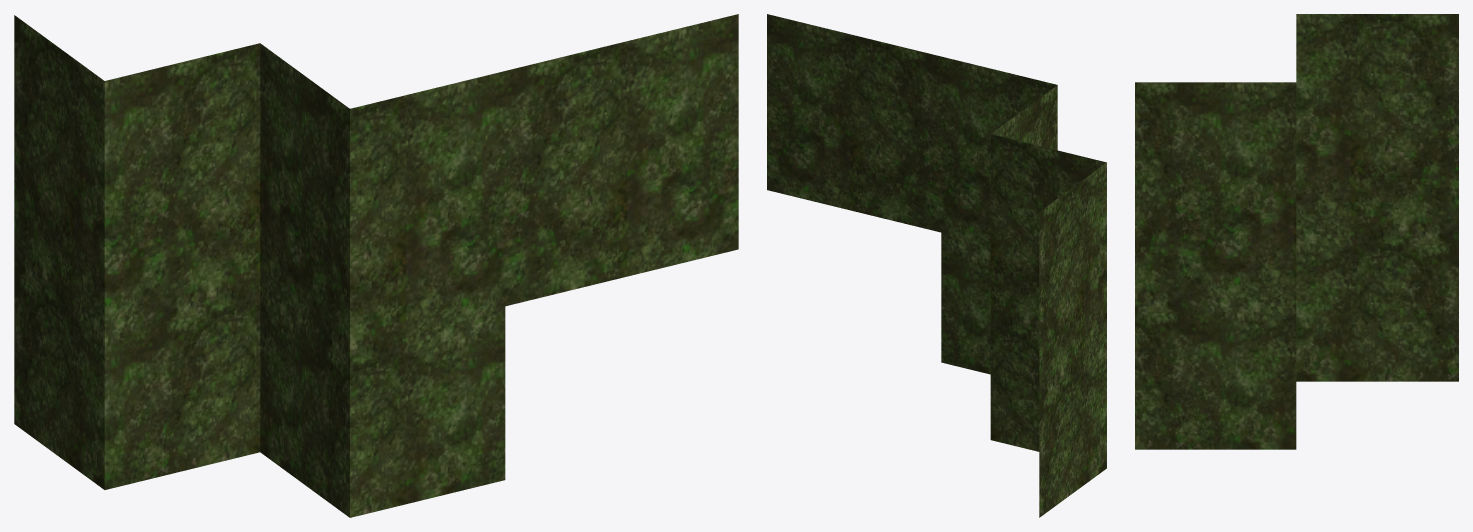
The model's file is OVERHILL_A_01_LINE201.fbx.
3 renders of one model, left to right at view 1: azimuth 30°, elevation 25°; view 2: azimuth 150°, elevation 25°; view 3: azimuth 270°, elevation 25°, orthographic. The views are drawn at different scales.
Visible parts, largest first — view 1: OVERHILL_A_01_LINE201; view 2: OVERHILL_A_01_LINE201; view 3: OVERHILL_A_01_LINE201.
Part boxes in pixels (x1,y1,x2,y2): OVERHILL_A_01_LINE201: (14, 14, 738, 517); OVERHILL_A_01_LINE201: (767, 14, 1106, 517); OVERHILL_A_01_LINE201: (1135, 14, 1458, 449).
Size of the model in its own units: 70000 by 50288 by 40148.
Materials: 1 (1 with a texture image).
